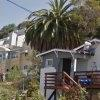Palm tree: (15, 2, 86, 51)
